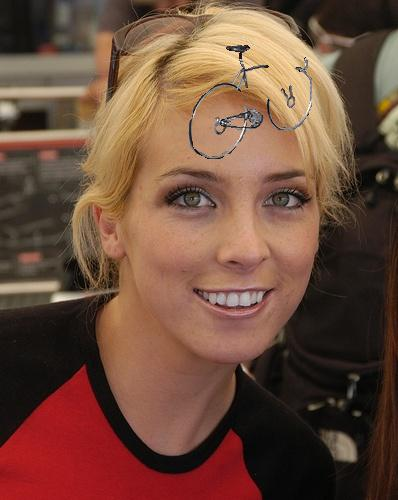tampered: (189, 46, 312, 159)
